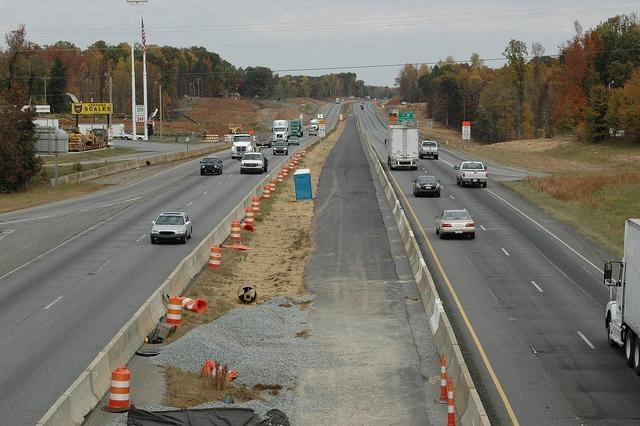car: (150, 211, 192, 244), (435, 208, 476, 240), (238, 154, 270, 174), (412, 176, 440, 197), (200, 156, 224, 178), (420, 142, 438, 160), (273, 140, 288, 155), (288, 136, 300, 146), (308, 130, 316, 136)
truck: (604, 218, 640, 374), (385, 119, 420, 170), (454, 160, 488, 190), (230, 132, 262, 160), (272, 120, 288, 144), (290, 119, 303, 136), (310, 119, 320, 130)
